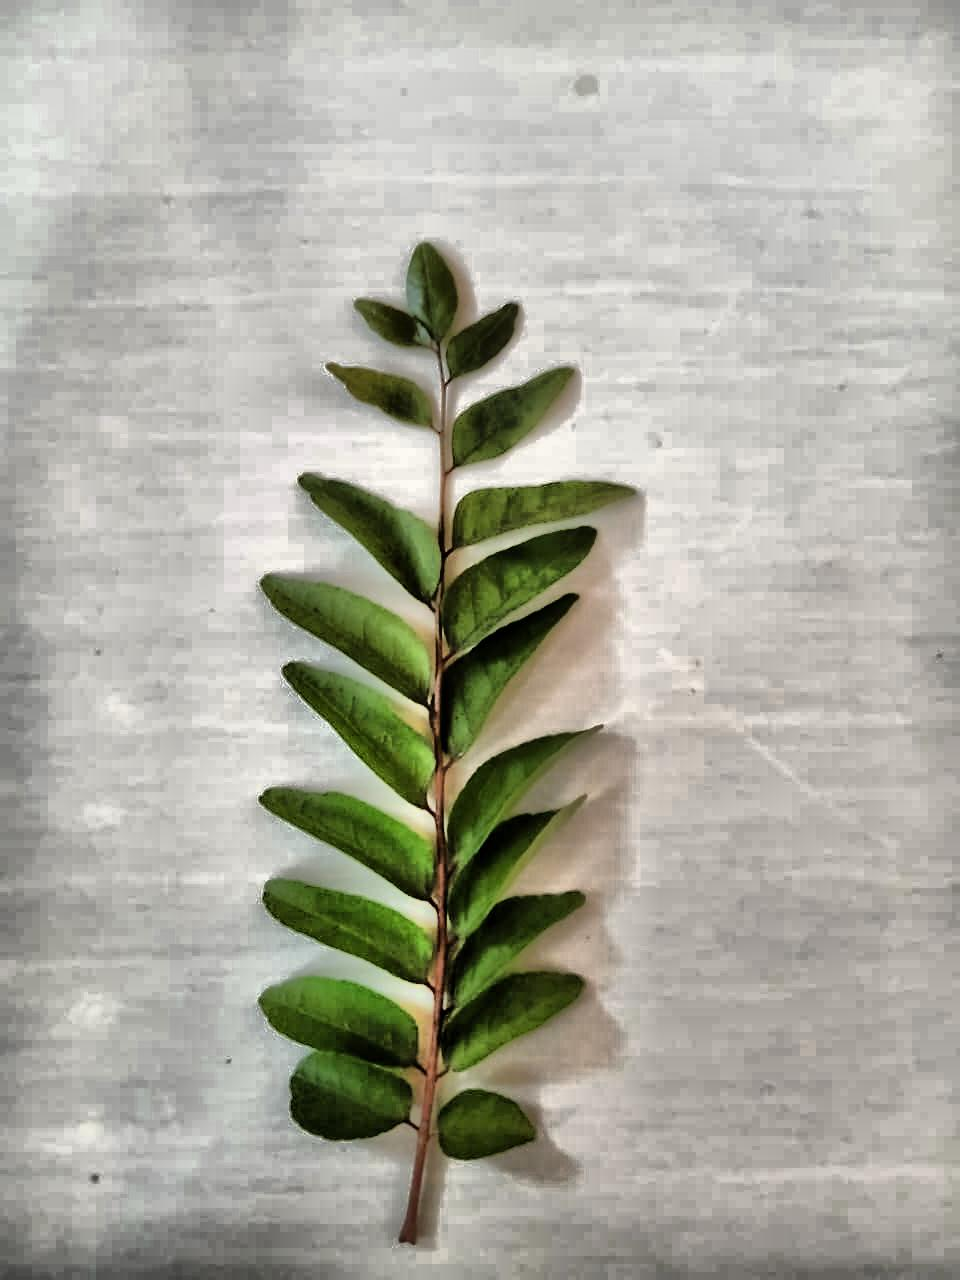daun kari: (261, 243, 633, 1243)
